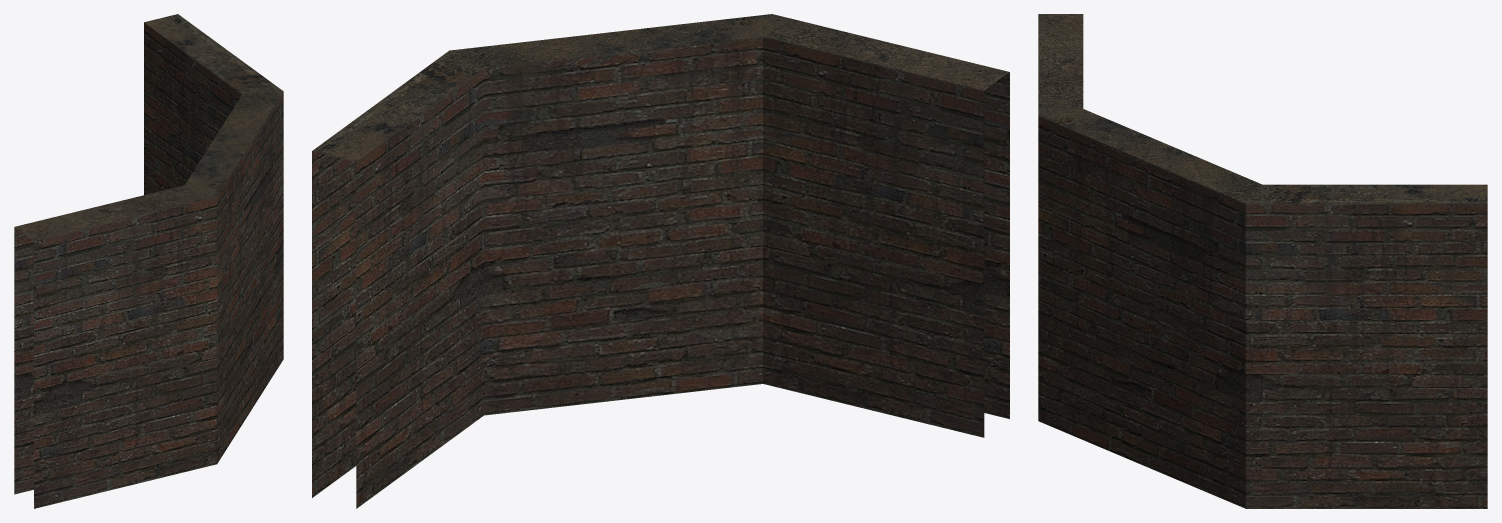
File: wall_hs_1_m2a_1.obj
The picture shows the model from 3 angles, left to right: view 1: azimuth 30°, elevation 25°; view 2: azimuth 150°, elevation 25°; view 3: azimuth 270°, elevation 25°; orthographic projection. The views are drawn at different scales.
Visible parts, largest first — view 1: wall_hs_1_m2a_1; view 2: wall_hs_1_m2a_1; view 3: wall_hs_1_m2a_1.
Part boxes in pixels (<box>): wall_hs_1_m2a_1: <box>14,14,283,508</box>; wall_hs_1_m2a_1: <box>312,14,1009,508</box>; wall_hs_1_m2a_1: <box>1038,14,1487,508</box>.
Size of the model in its own units: 4 by 3 by 4.
